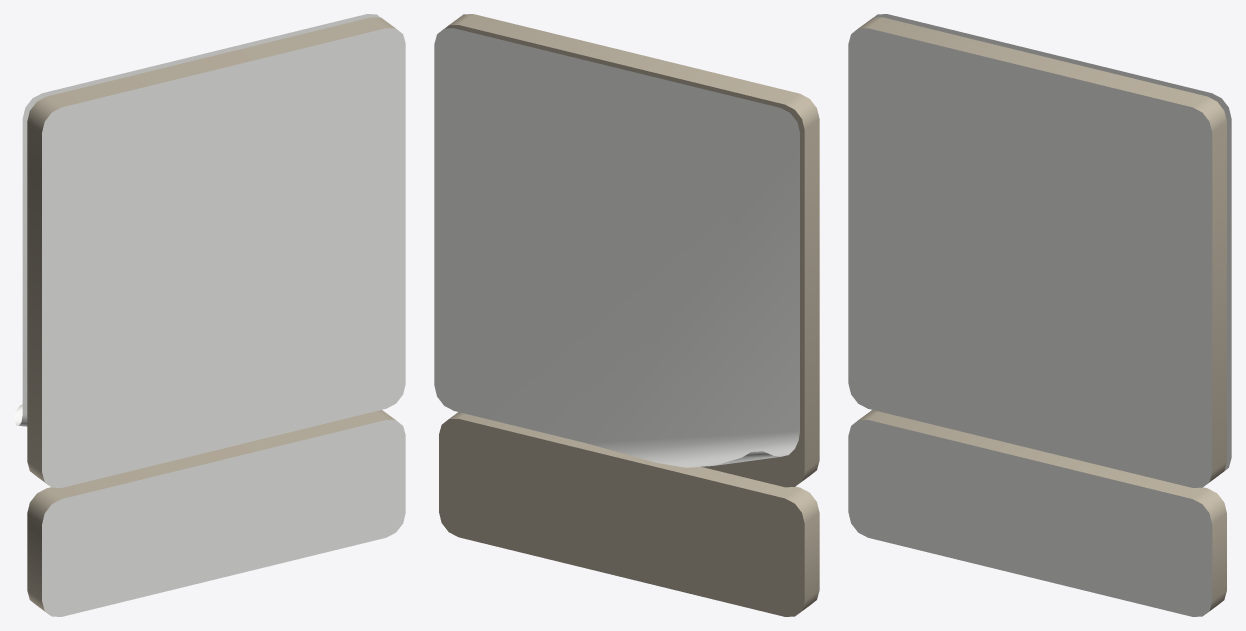
File: date_bg.glb
The picture shows the model from 3 angles, left to right: view 1: azimuth 30°, elevation 25°; view 2: azimuth 150°, elevation 25°; view 3: azimuth 330°, elevation 25°; orthographic projection.
Visible parts, largest first — view 1: date_bg; view 2: date_bg; view 3: date_bg.
Boxes of the visible parts, x1,y1,x2,y2 form: date_bg: (14,14,405,616); date_bg: (434,14,819,616); date_bg: (848,14,1231,616).
Size of the model in its own units: 1 by 1.34 by 0.207.
Materials: 1 (1 with a texture image).
